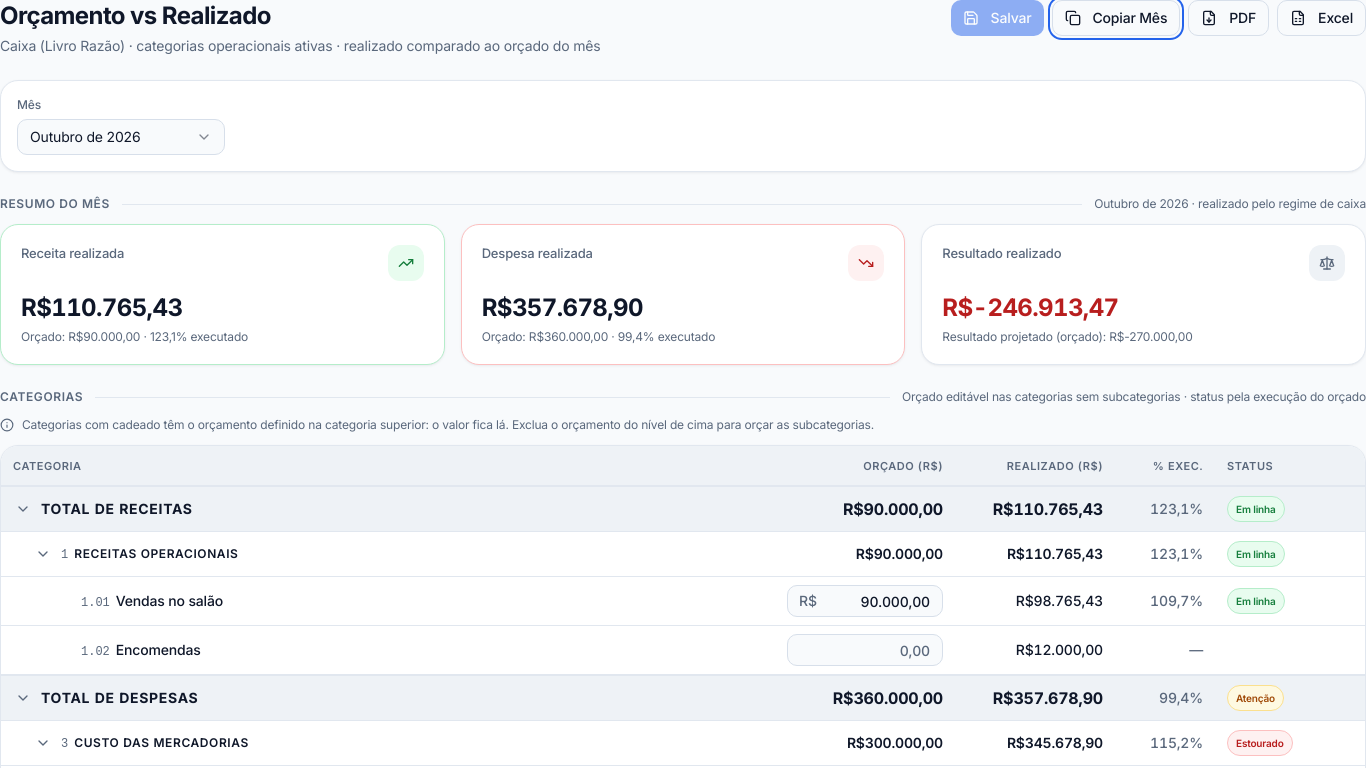
Test case: Orçamento × Realizado › Copiar Mês abre com rótulo associado e fecha sem copiar, devolvendo o foco
Click the button "Copiar Mês" at (1116, 18), box [1052,0,1180,36]
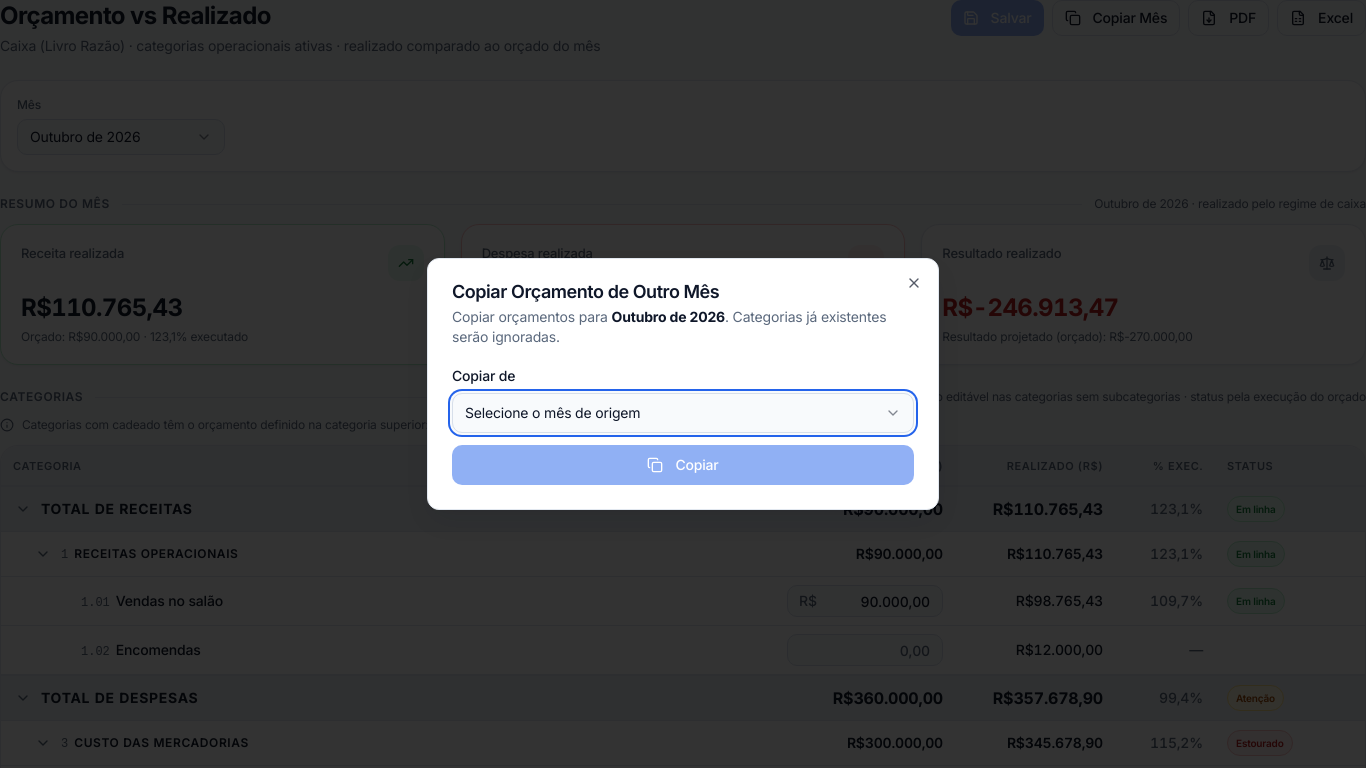
Check: the dropdown named "Copiar de" is shown, box [452,393,914,433]
Check: the button "Copiar" is disabled, box [452,445,914,485]
Press Escape in the dialog "Copiar Orçamento de Outro Mês", box [427,258,939,510]
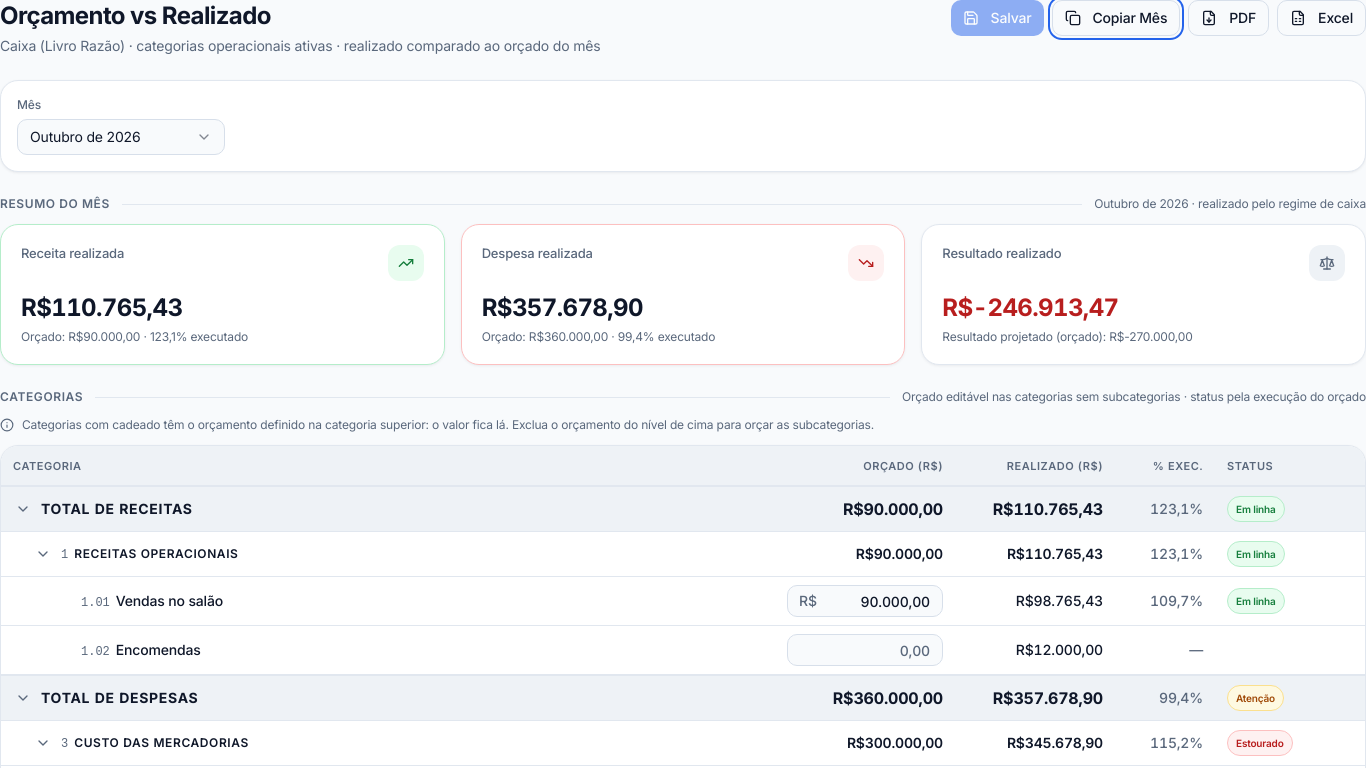
Check: the dialog is gone
